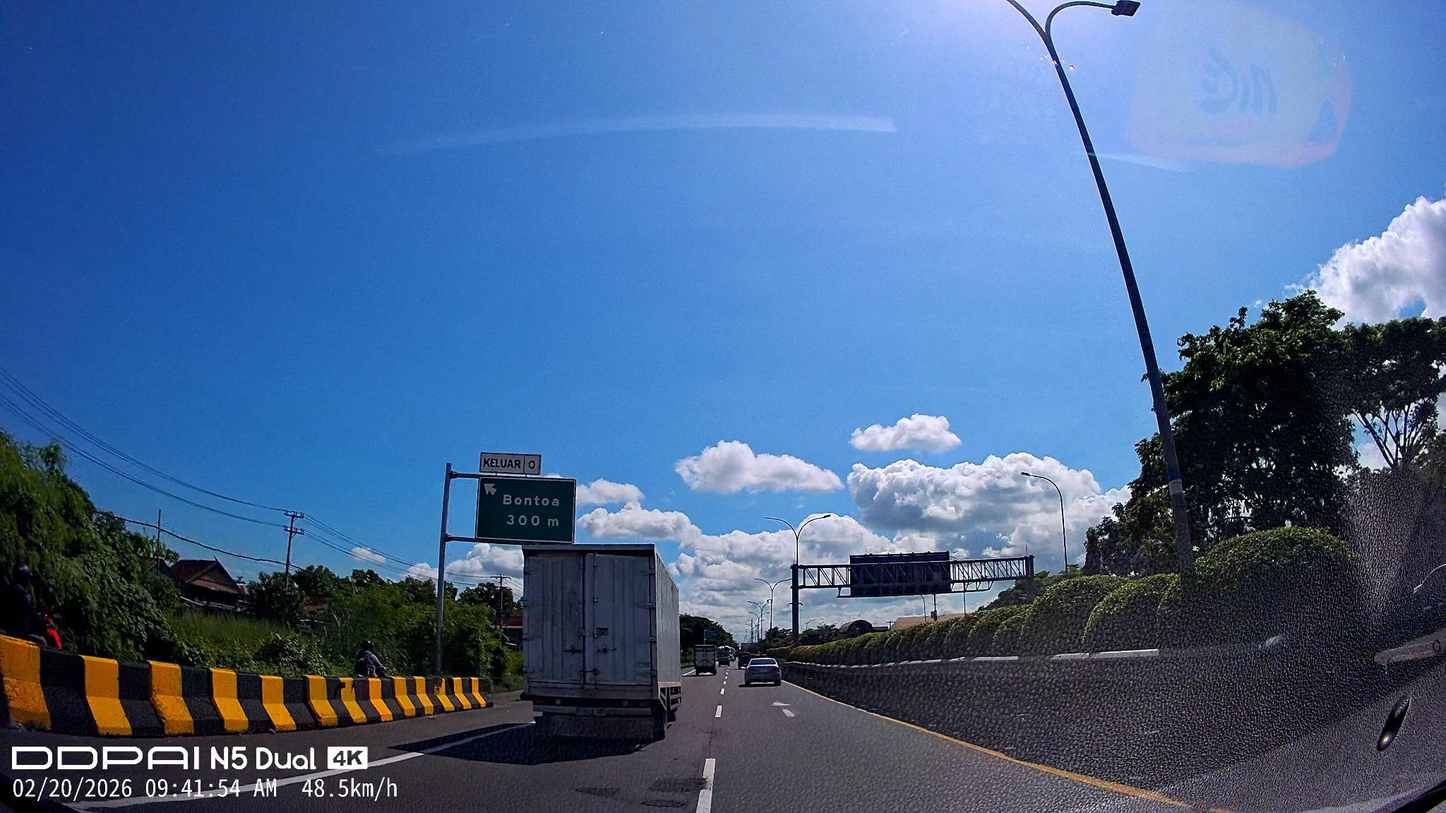rambu_teks: (476, 476, 576, 544)
